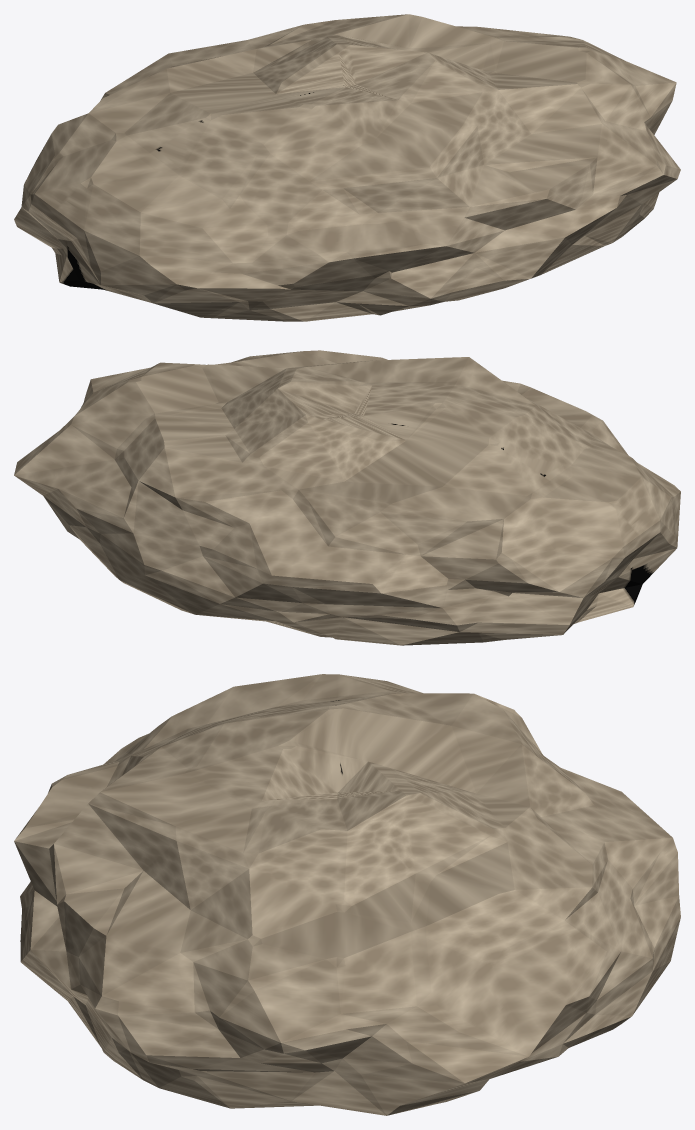
The model's file is 해안바위_02.fbx.
3 renders of one model, top to bottom at view 1: azimuth 30°, elevation 25°; view 2: azimuth 150°, elevation 25°; view 3: azimuth 270°, elevation 25°, orthographic. The views are drawn at different scales.
Visible parts, largest first — view 1: 해안바위_02; view 2: 해안바위_02; view 3: 해안바위_02.
Boxes of the visible parts, x1,y1,x2,y2 form: 해안바위_02: (14, 14, 680, 321); 해안바위_02: (14, 350, 680, 645); 해안바위_02: (14, 674, 680, 1115).
Bounding box in the file's own units: 2821 × 635 × 2202.
Materials: 1 (1 with a texture image).
